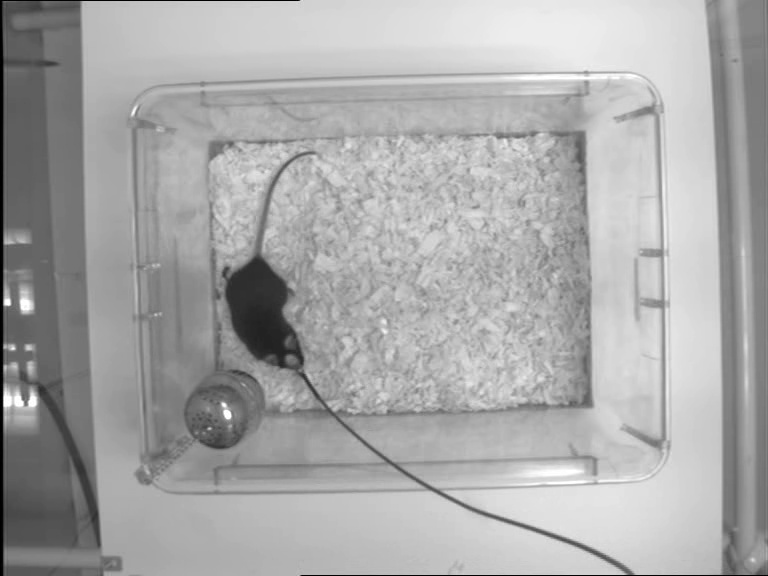mice: (219, 150, 322, 370)
